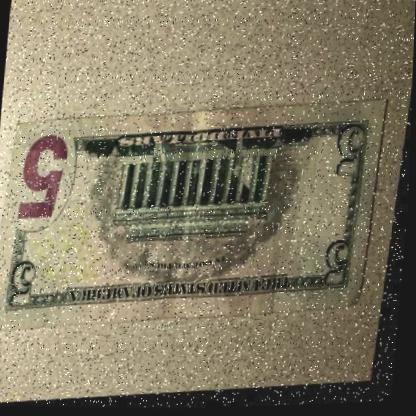five-back: (0, 85, 389, 354)
